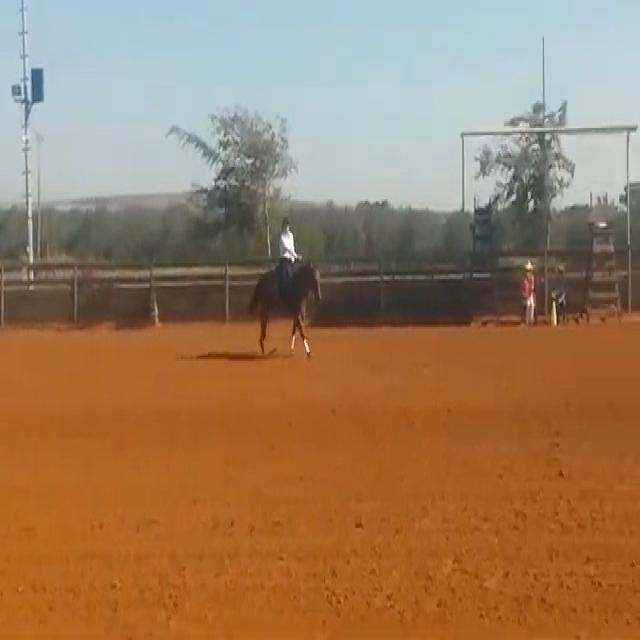horse: (247, 254, 323, 359)
